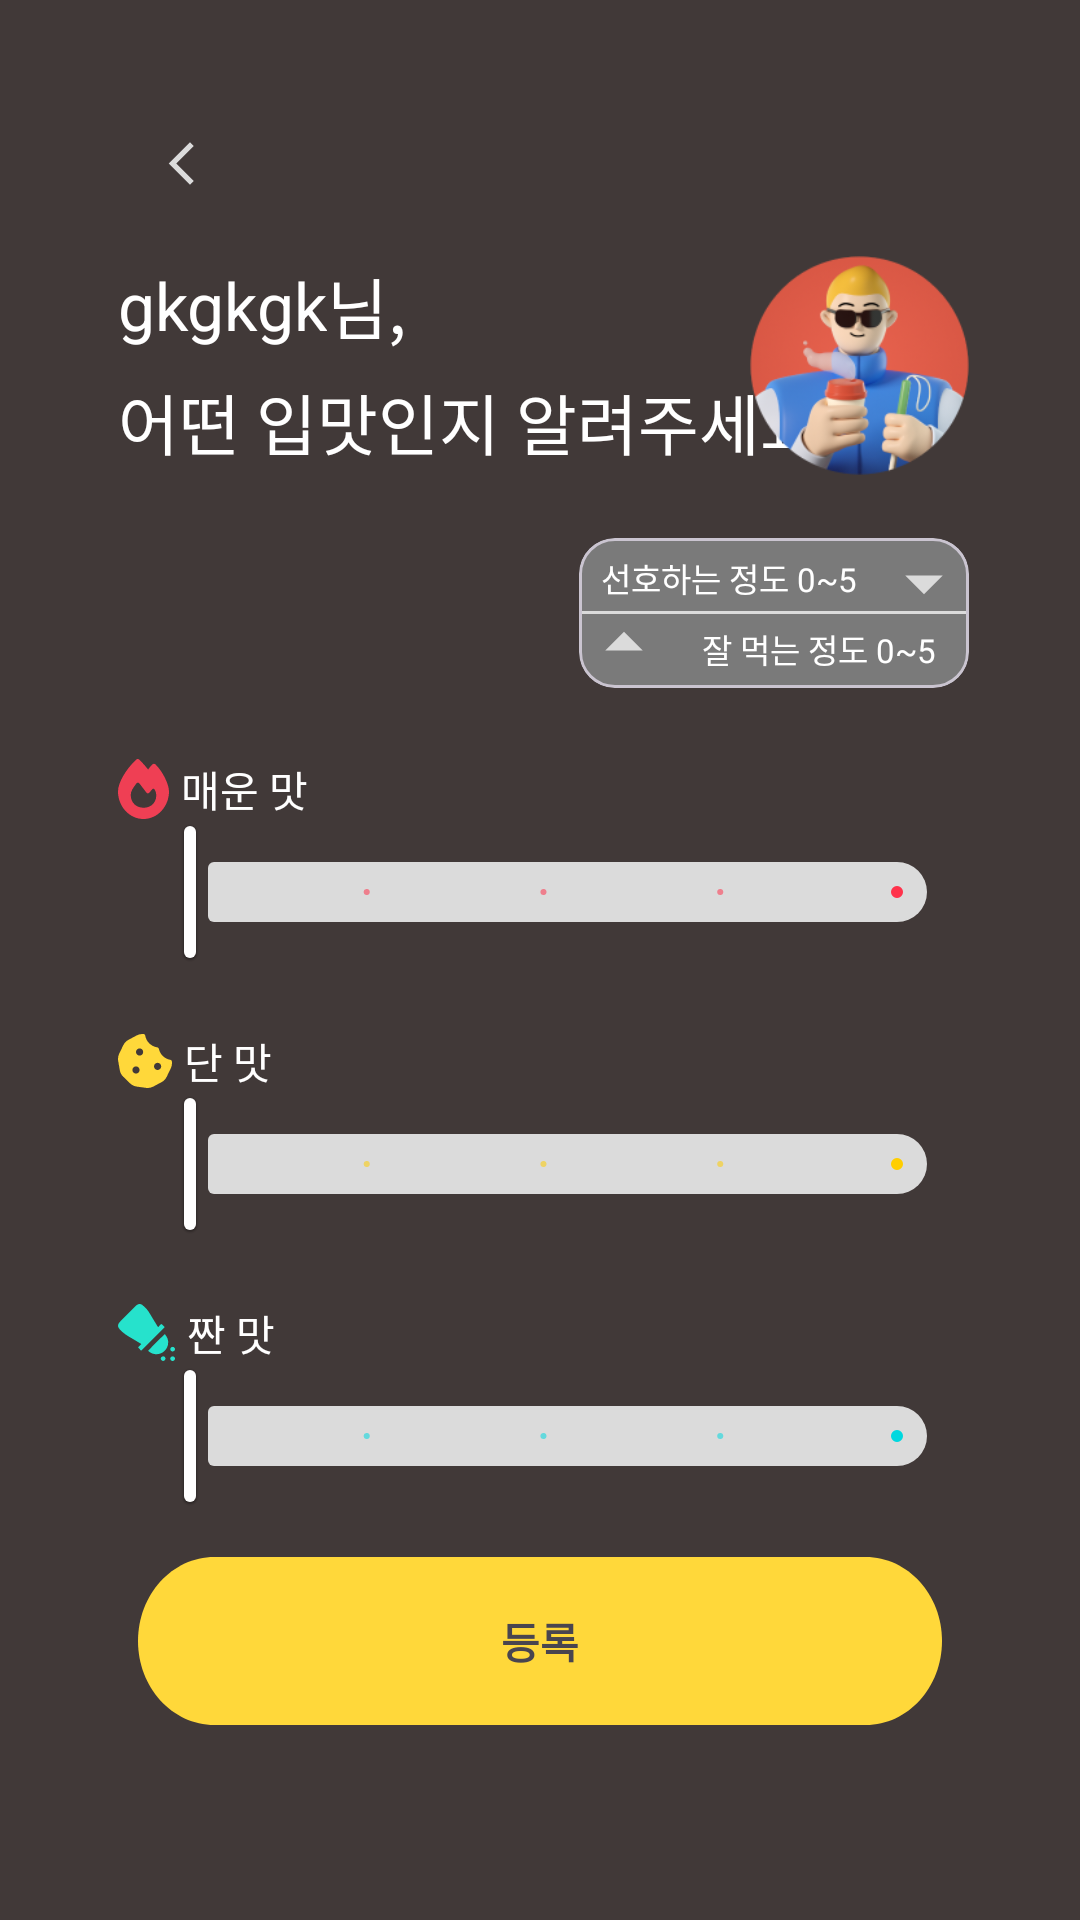

Point at icon controls on the screen. Image size 1080px×1920px, points as point (x, y).
arrow left: point (181, 163)
user: point (859, 365)
